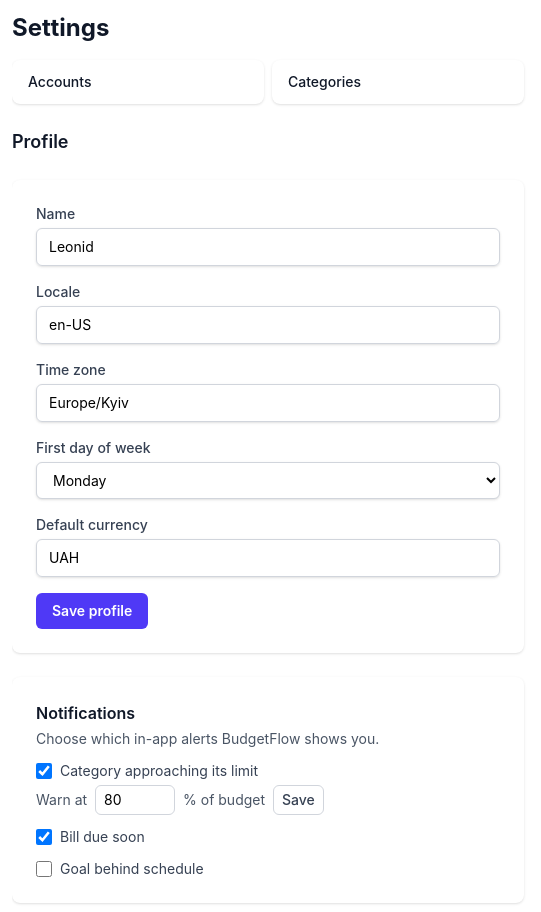
Test: SettingsPage profile form › prefills the profile and saves changes
The image size is (541, 912).
Expected: the dropdown labelled "First day of week" shows "Monday", [36,462,500,499]
Step 1. Replace the text in the field labelled "Name" with "Leonid K." → (268, 247), box [36,228,500,266]
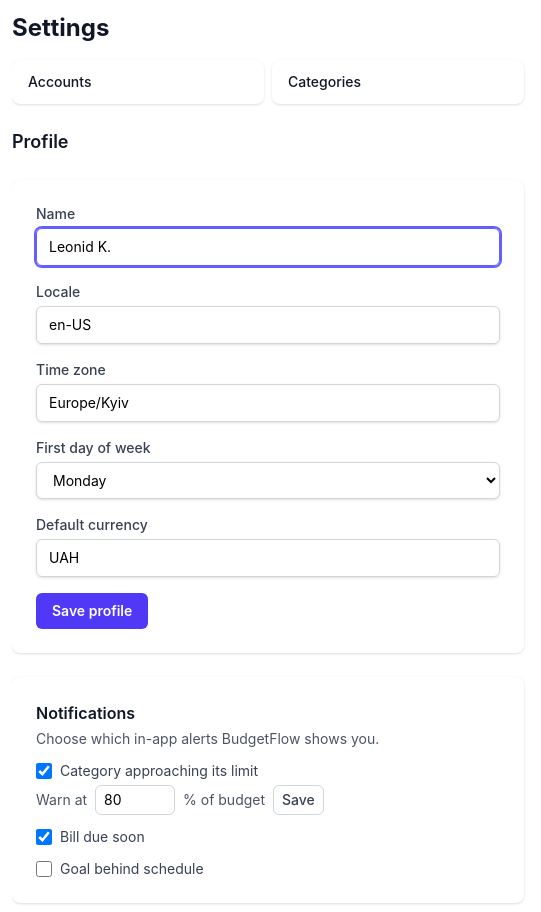
Step 2. Click the button "Save profile" → (92, 611), box [36,593,148,629]
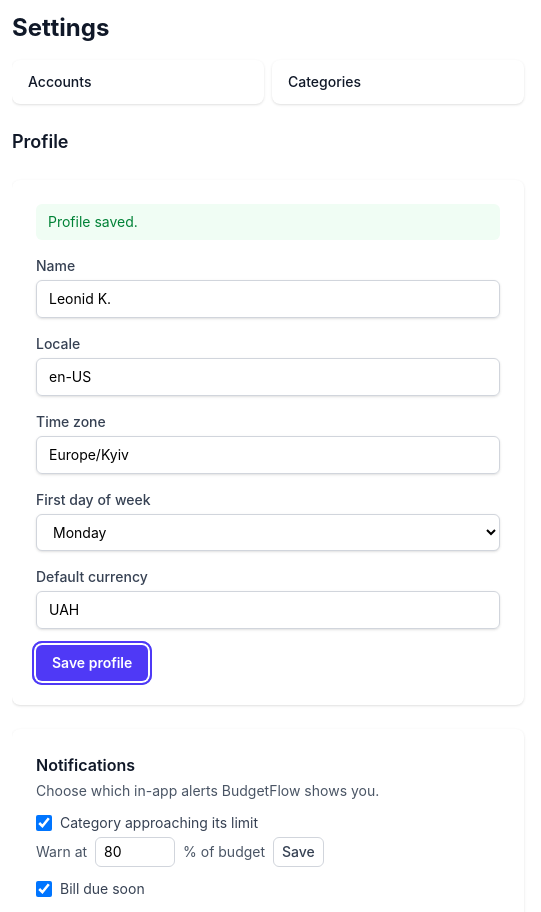
Now the message reads "Profile saved.", box [48,213,138,230]
